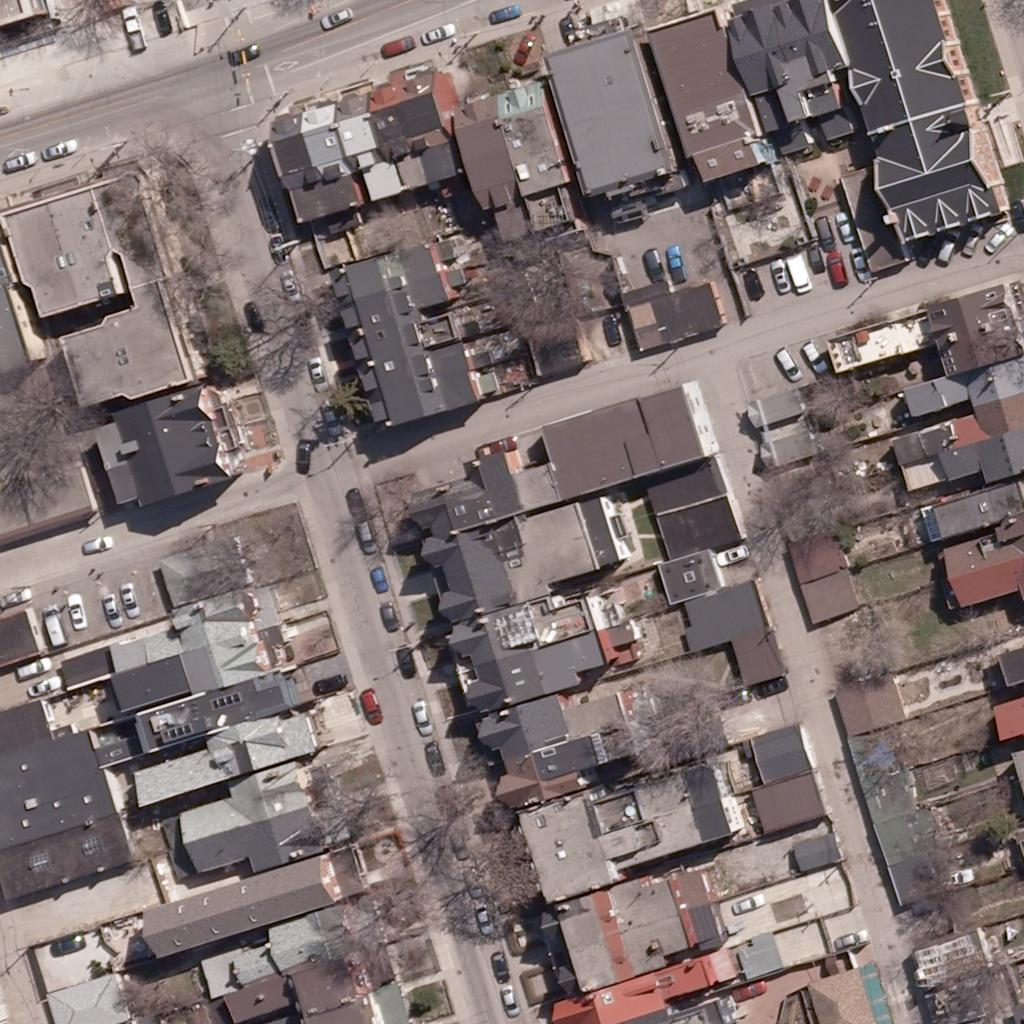car: (113, 7, 147, 41), (420, 17, 454, 51), (383, 26, 417, 60), (505, 30, 539, 64), (228, 36, 262, 70), (42, 129, 76, 163), (42, 130, 76, 164), (6, 143, 40, 177), (805, 209, 839, 243), (828, 212, 862, 246), (982, 216, 1016, 250), (953, 222, 987, 256), (258, 230, 292, 264), (912, 231, 946, 265), (926, 231, 960, 265), (796, 237, 830, 271), (633, 244, 667, 278), (655, 244, 689, 278), (845, 244, 879, 278), (817, 252, 851, 286), (763, 259, 797, 293), (782, 261, 816, 295), (269, 266, 303, 300), (733, 268, 767, 302), (235, 298, 269, 332), (284, 310, 318, 344), (593, 314, 627, 348), (794, 340, 828, 374), (770, 350, 804, 384), (297, 352, 331, 386), (312, 399, 346, 433), (481, 428, 515, 462), (286, 436, 320, 470), (335, 482, 369, 516), (349, 516, 383, 550), (77, 528, 111, 562), (716, 537, 750, 571), (360, 559, 394, 593), (112, 581, 146, 615), (94, 593, 128, 627), (56, 594, 90, 628), (369, 600, 403, 634), (34, 604, 68, 638), (387, 640, 421, 674), (19, 646, 53, 680), (310, 662, 344, 696), (28, 669, 62, 703), (752, 669, 786, 703), (715, 682, 749, 716), (352, 686, 386, 720), (405, 697, 439, 731), (416, 736, 450, 770), (427, 781, 461, 815), (428, 781, 462, 815), (437, 818, 471, 852), (455, 859, 489, 893), (939, 861, 973, 895), (731, 884, 765, 918), (467, 901, 501, 935), (830, 921, 864, 955), (45, 927, 79, 961), (481, 948, 515, 982), (481, 949, 515, 983), (729, 973, 763, 1007), (493, 979, 527, 1013), (143, 0, 177, 33), (320, 0, 354, 33), (0, 578, 31, 612), (488, 0, 522, 30), (1001, 197, 1024, 231)
